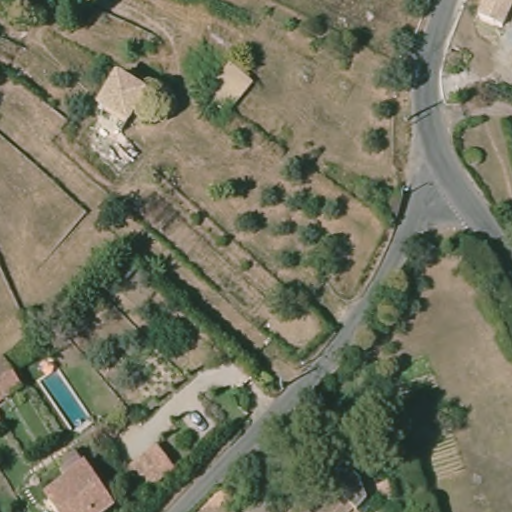pool: (30, 364, 100, 437)
